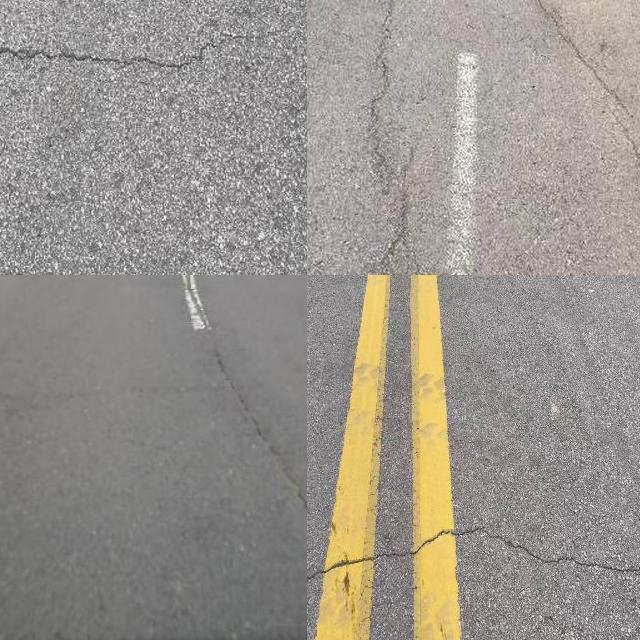Melintang: (307, 513, 640, 605), (0, 35, 227, 84)
Memanjang: (192, 322, 307, 545), (519, 0, 640, 193), (355, 0, 422, 275)
